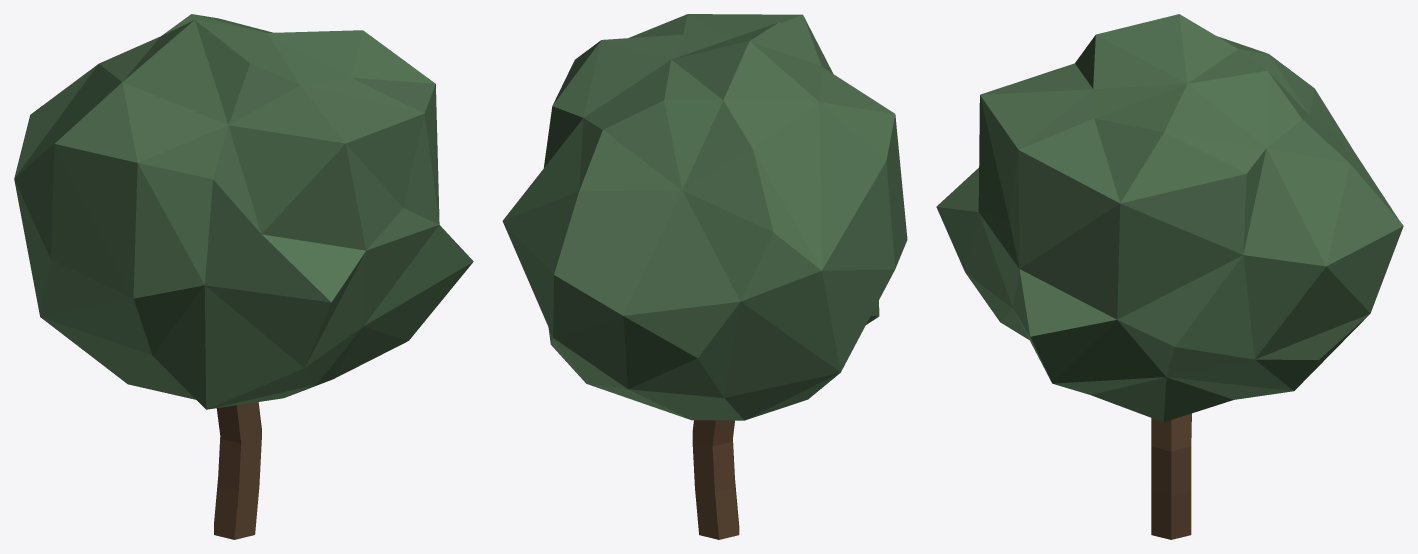
Rendered from O_Tree_1.fbx.
3 views of the same model, side by side, from view 1: azimuth 30°, elevation 25°; view 2: azimuth 150°, elevation 25°; view 3: azimuth 270°, elevation 25° (orthographic). The views are drawn at different scales.
Visible parts, largest first — view 1: O_Tree_1; view 2: O_Tree_1; view 3: O_Tree_1.
Part boxes in pixels (<box>): O_Tree_1: <box>14,14,473,539</box>; O_Tree_1: <box>502,14,907,539</box>; O_Tree_1: <box>936,14,1403,539</box>.
Size of the model in its own units: 0.1321 by 0.1821 by 0.1545.
